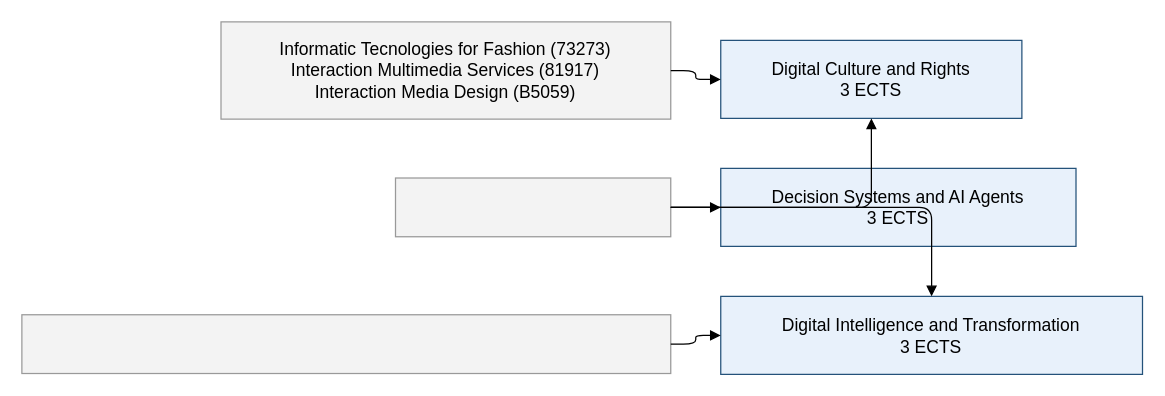
This 1165x396 diagram has some shape labels left out. Here are the shapes that lost their labels. From the top down, the box of each, then its label:
(394, 177, 671, 237): Digital Culture (93379)
(21, 314, 671, 374): Introduction to Data Science and Computational Thinking (B0064)
